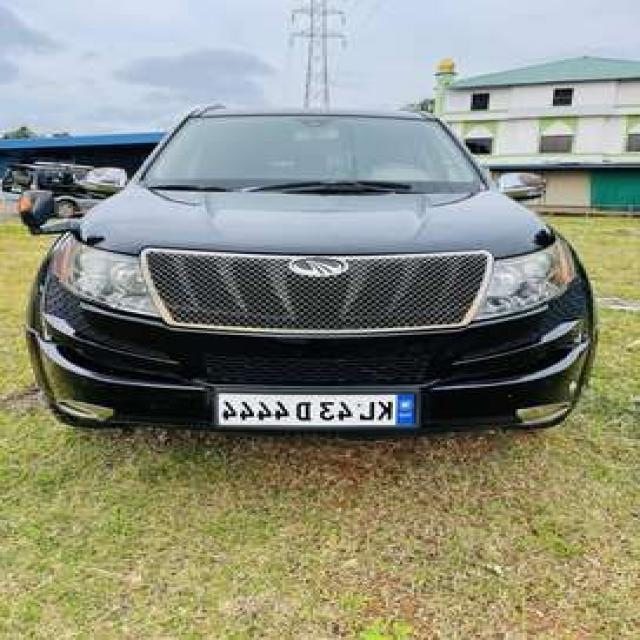license_plate: (210, 383, 424, 439)
